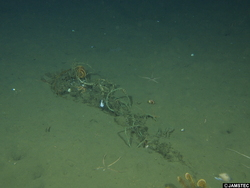fishing net: (43, 61, 189, 167)
